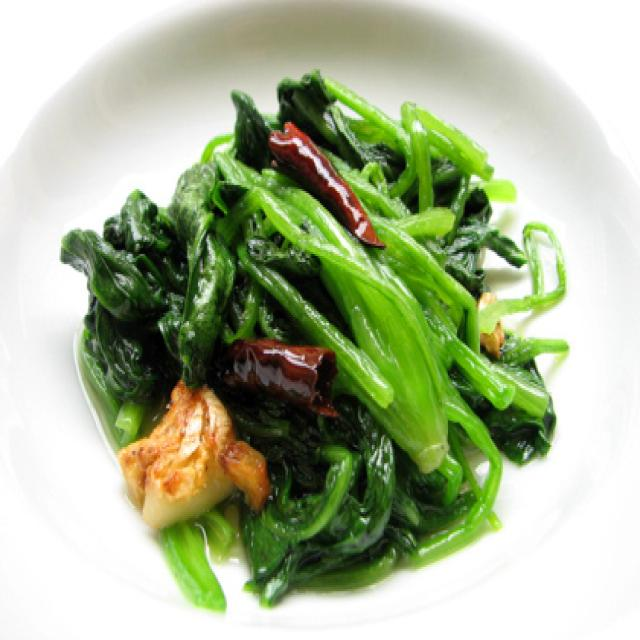蔬菜料理: (39, 0, 640, 640)
